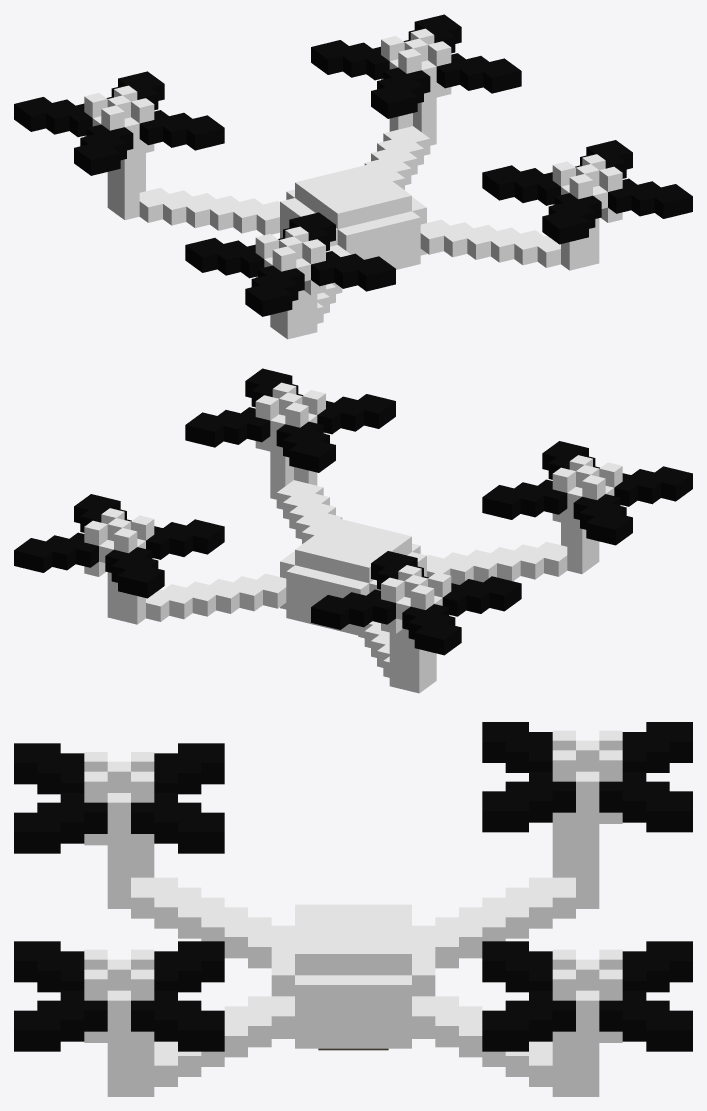
The model's file is drone.obj.
3 renders of one model, top to bottom at view 1: azimuth 30°, elevation 25°; view 2: azimuth 150°, elevation 25°; view 3: azimuth 270°, elevation 25°, orthographic. The views are drawn at different scales.
Size of the model in its own units: 29 by 9 by 29.
Materials: 1 (1 with a texture image).
